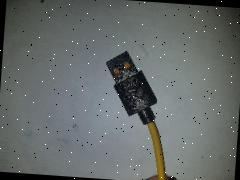electronic: (59, 0, 174, 146)
